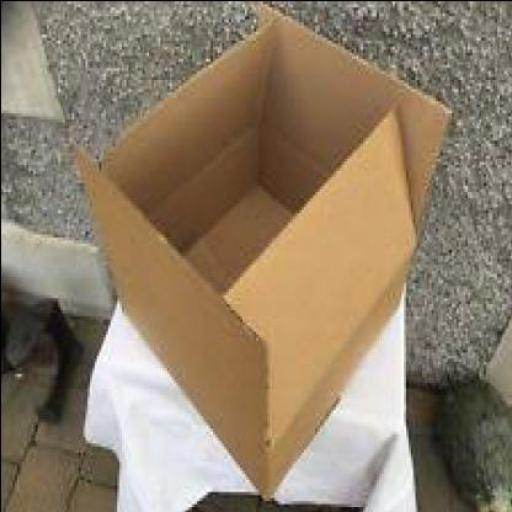cardboard: (75, 1, 453, 489), (226, 97, 424, 436), (77, 142, 269, 428)
